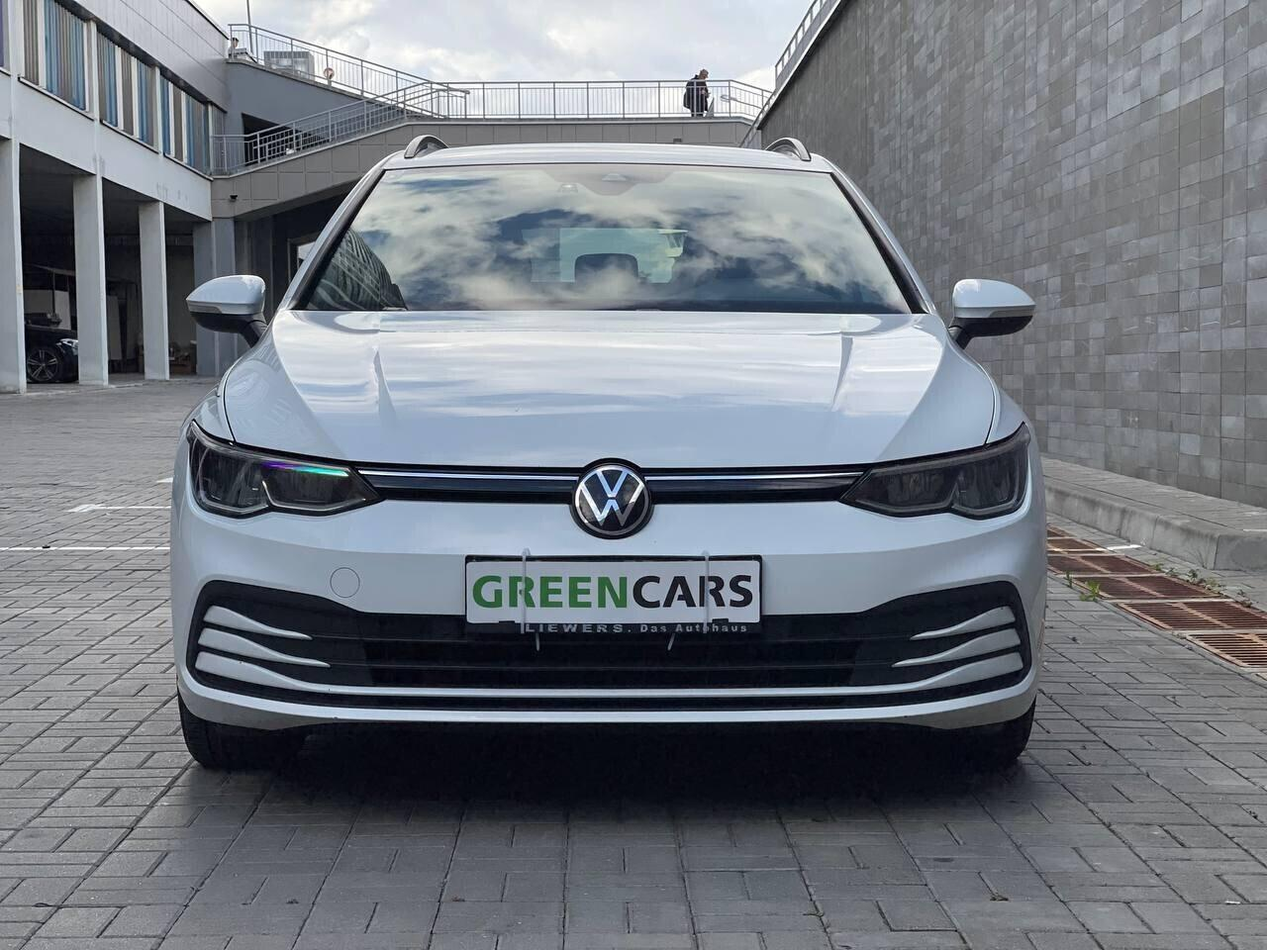Golf_2019: (171, 132, 1043, 784)
